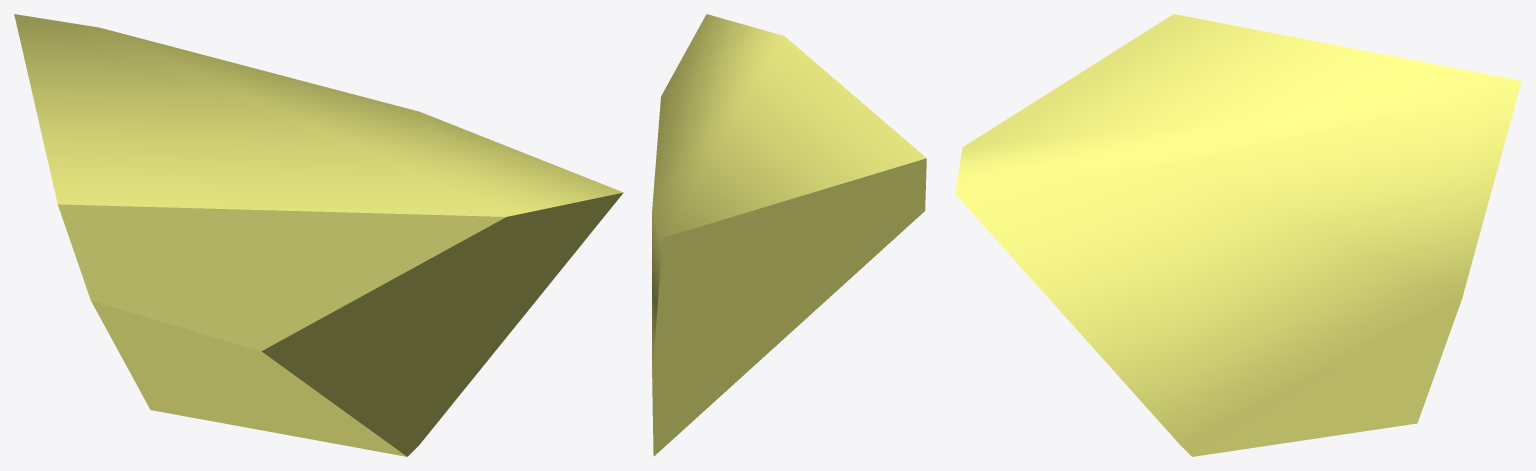
Rendered from breakableCenter_cell_005.fbx.
3 views of the same model, side by side, from view 1: azimuth 30°, elevation 25°; view 2: azimuth 150°, elevation 25°; view 3: azimuth 270°, elevation 25° (orthographic). The views are drawn at different scales.
Visible parts, largest first — view 1: breakableCenter_cell.005; view 2: breakableCenter_cell.005; view 3: breakableCenter_cell.005.
Boxes of the visible parts, <box> form: breakableCenter_cell.005: <box>14,14,623,456</box>; breakableCenter_cell.005: <box>652,14,926,456</box>; breakableCenter_cell.005: <box>955,14,1521,456</box>.
Size of the model in its own units: 11.65 by 9.41 by 15.49.
